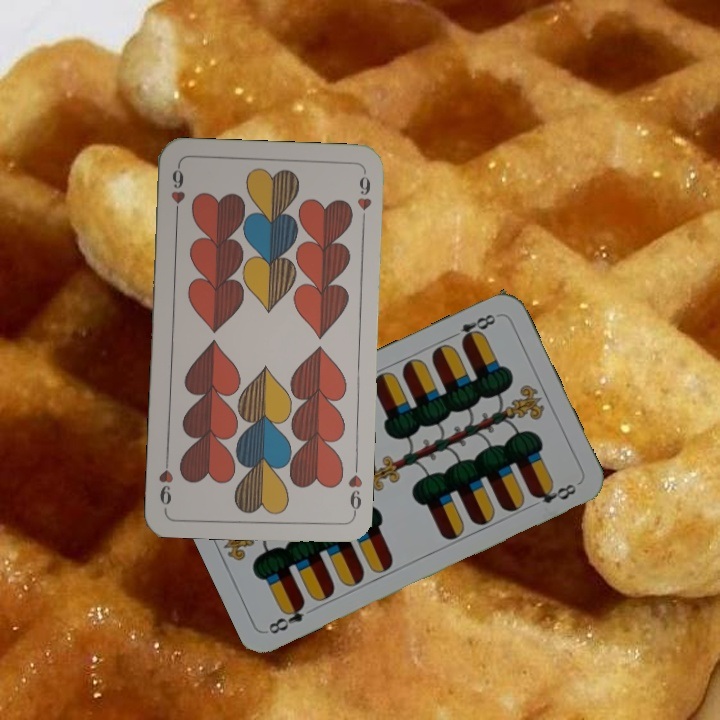E8: (445, 310, 499, 347), (264, 597, 308, 637)
H9: (167, 162, 188, 221), (344, 471, 365, 518)
